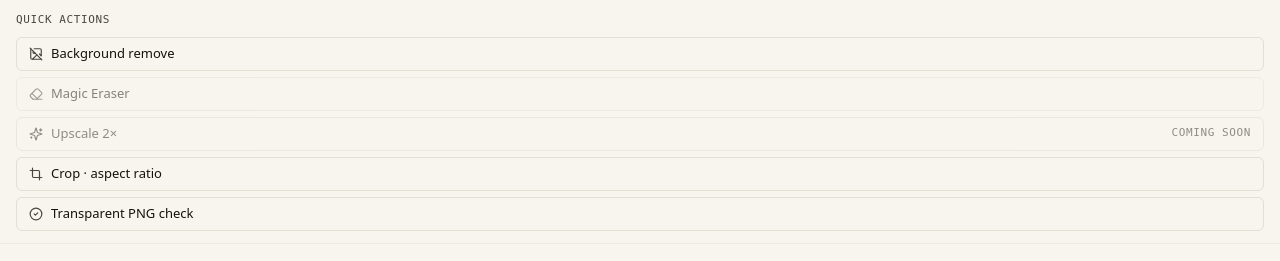
QuickActions — pending state › mutation pending → tıklanan buton disabled, diğer instant butonlar disabled
The width and height of the screenshot is (1280, 261).
Click the button "Transparent PNG check" at point(122, 213), box [16,196,1264,230]
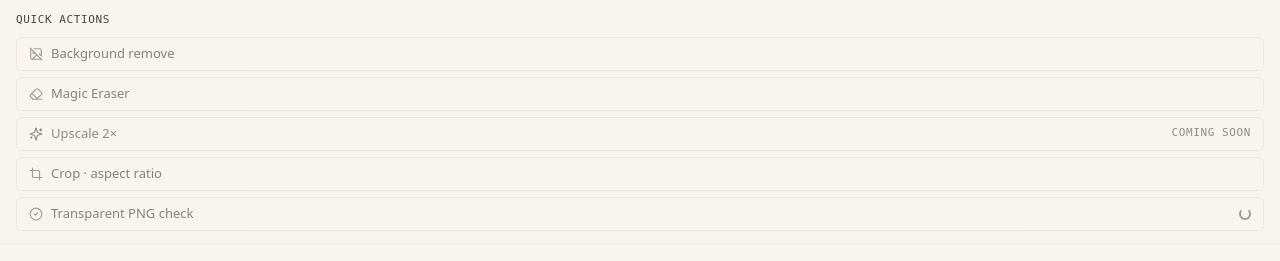
Expected: the button "Transparent PNG check" is disabled, [16,196,1264,230]
Expected: the button "Crop · aspect ratio" is disabled, [16,156,1264,190]
Expected: the button "Background remove" is disabled, [16,36,1264,70]
